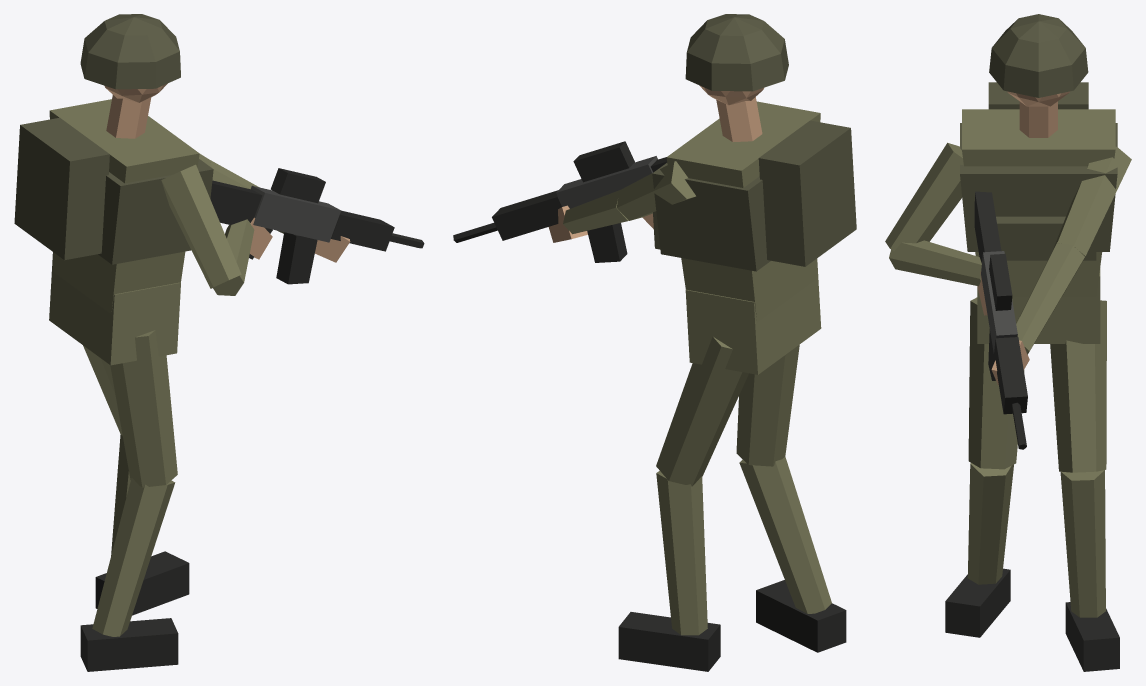
File: soldier_stand.glb
The picture shows the model from 3 angles, left to right: view 1: azimuth 30°, elevation 25°; view 2: azimuth 150°, elevation 25°; view 3: azimuth 270°, elevation 25°; orthographic projection. The views are drawn at different scales.
Parts seen in each view (by area): view 1: soldier; view 2: soldier; view 3: soldier.
Part boxes in pixels (box(x1,y1,x2,y2)): soldier: box(14, 14, 424, 671); soldier: box(453, 14, 856, 671); soldier: box(885, 14, 1131, 671).
Size of the model in its own units: 1.13 by 1.76 by 0.6421.
